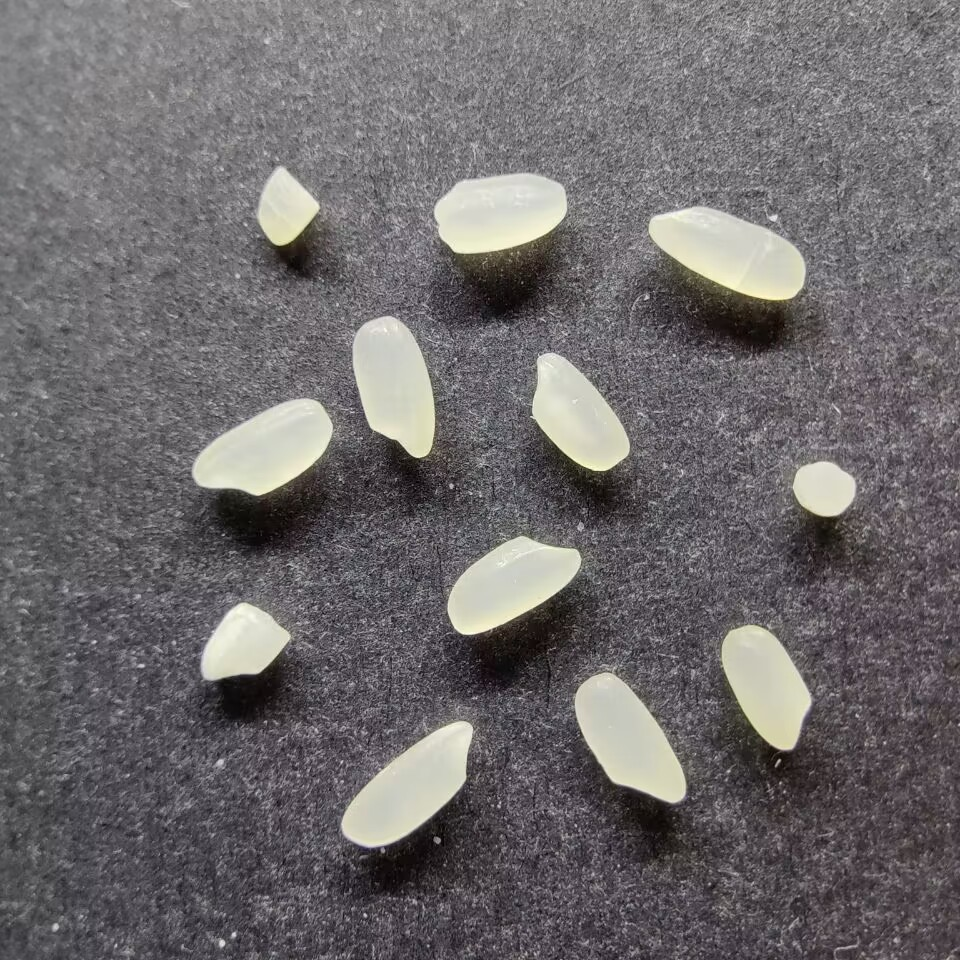broken: (200, 603, 289, 681), (257, 166, 320, 247), (792, 461, 856, 517)
rice: (340, 719, 472, 847), (573, 671, 687, 805), (647, 205, 806, 300), (191, 398, 332, 496), (446, 536, 581, 635), (351, 315, 435, 459), (531, 351, 630, 472), (720, 625, 812, 751), (432, 174, 567, 254)
